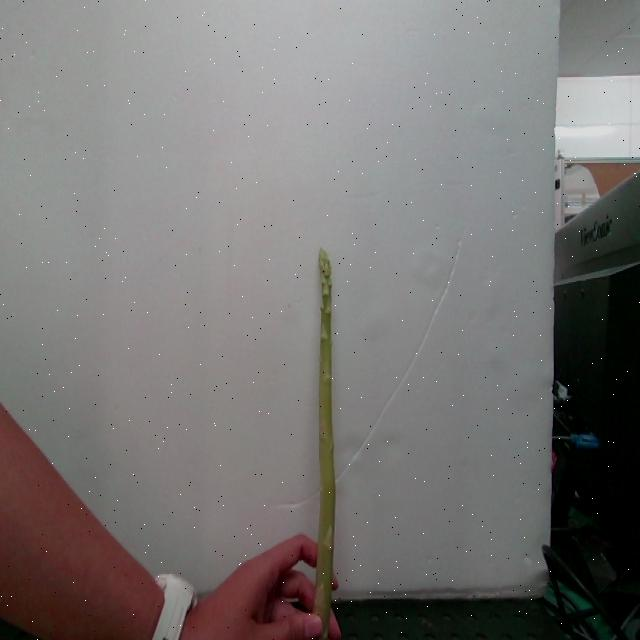aspargus: (318, 250, 338, 640)
